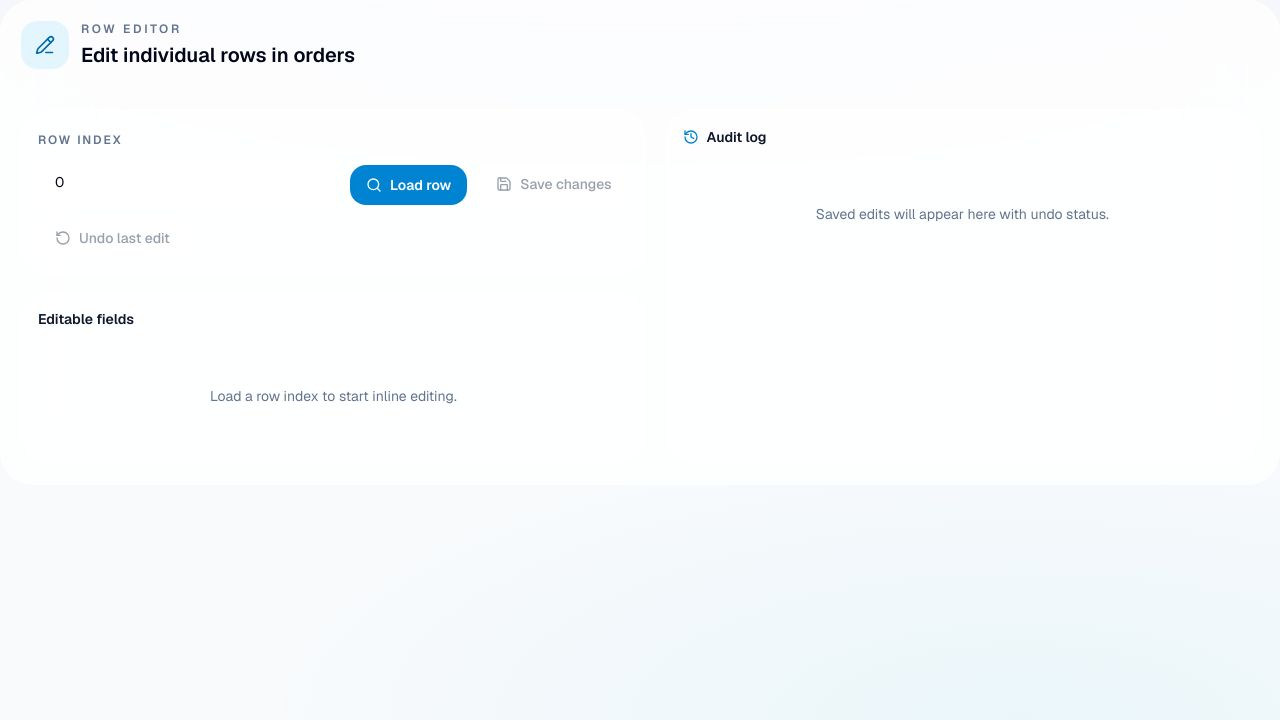
Test: RowEditor › loads a row by index and populates editable fields
Click the button "Load row".
click(409, 185)  # box [350,165,467,205]
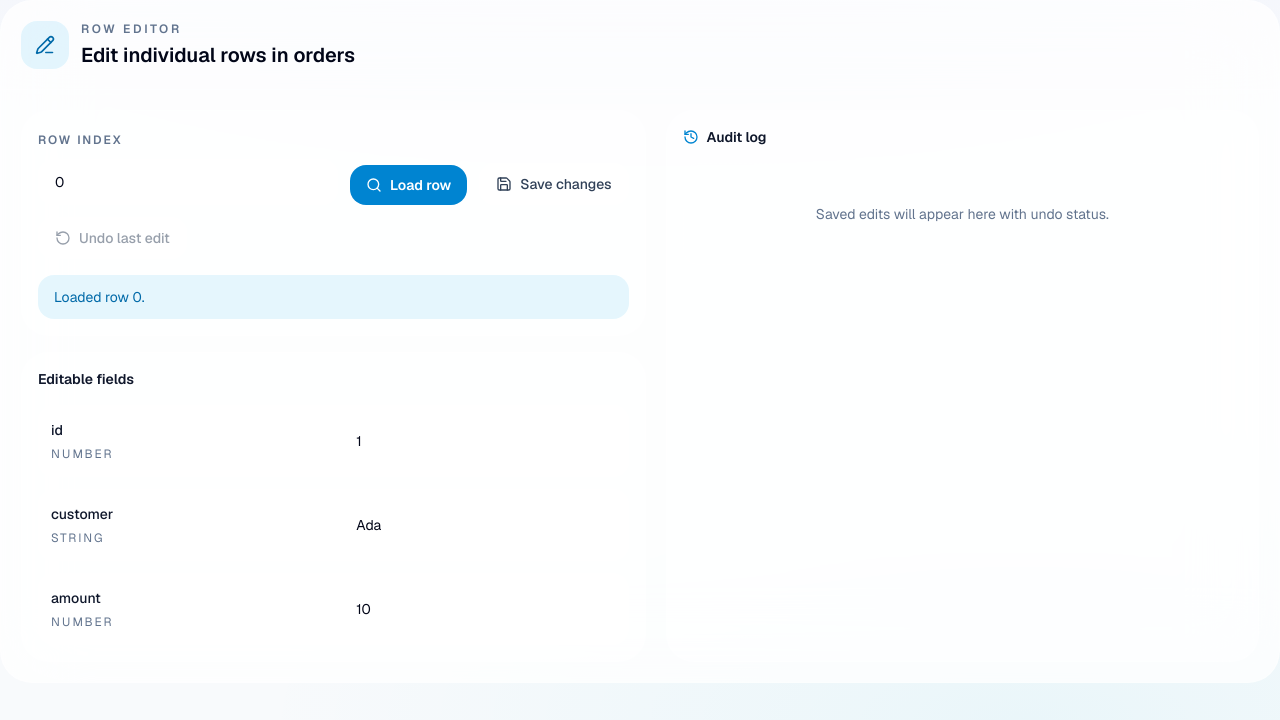
Now the field named "Edit customer" holds "Ada", box [339,502,616,548]
Now the field named "Edit amount" holds "10", box [339,586,616,632]
